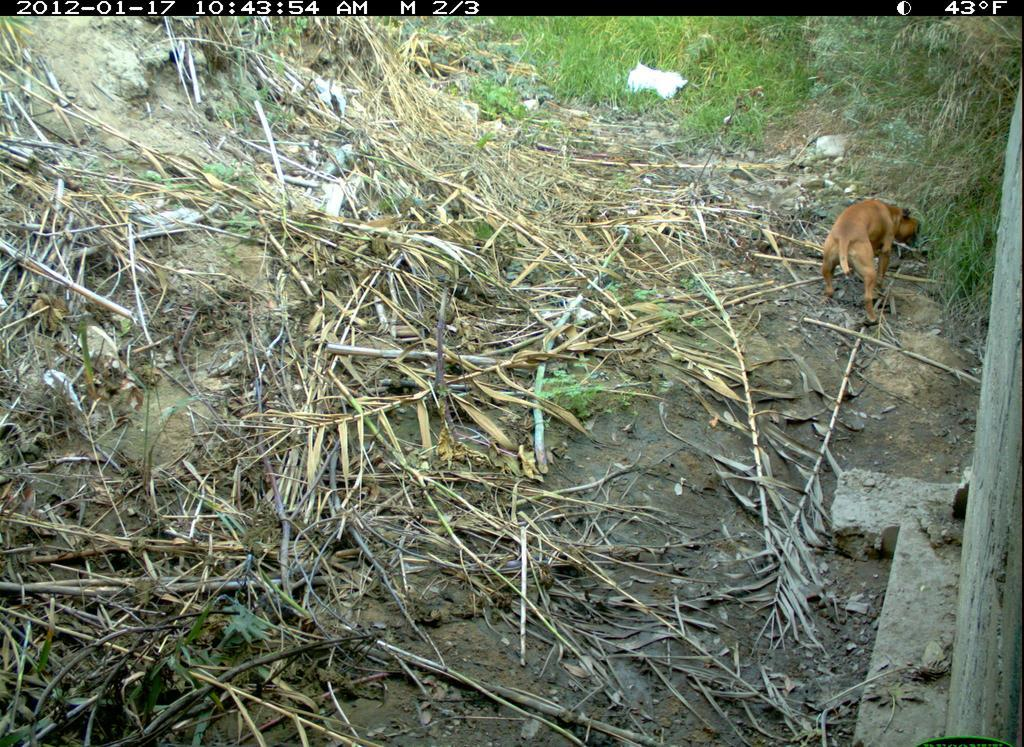dog: (809, 180, 926, 332)
